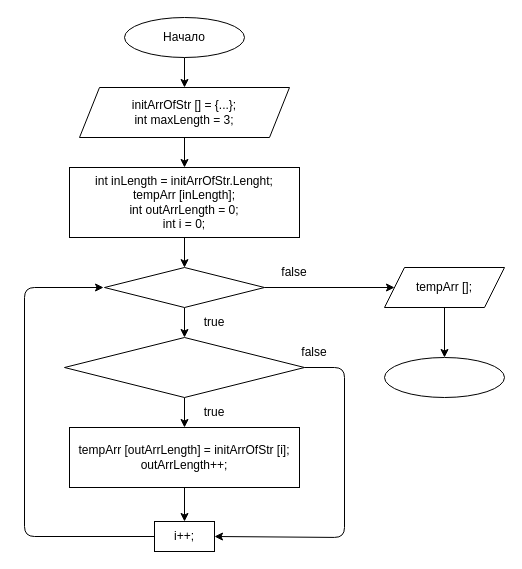
Some shapes in this 522 by 569 pixel diagram are drawn without their labels. The shapes that lost their labels are listed below. From the top down, each one's box as (x1, y1, x2, y2) in pixels, then its label:
(104, 266, 264, 308): i < inLength
(64, 336, 304, 398): initArrOfStr[i].Length <= maxLength
(384, 356, 504, 398): Конец
